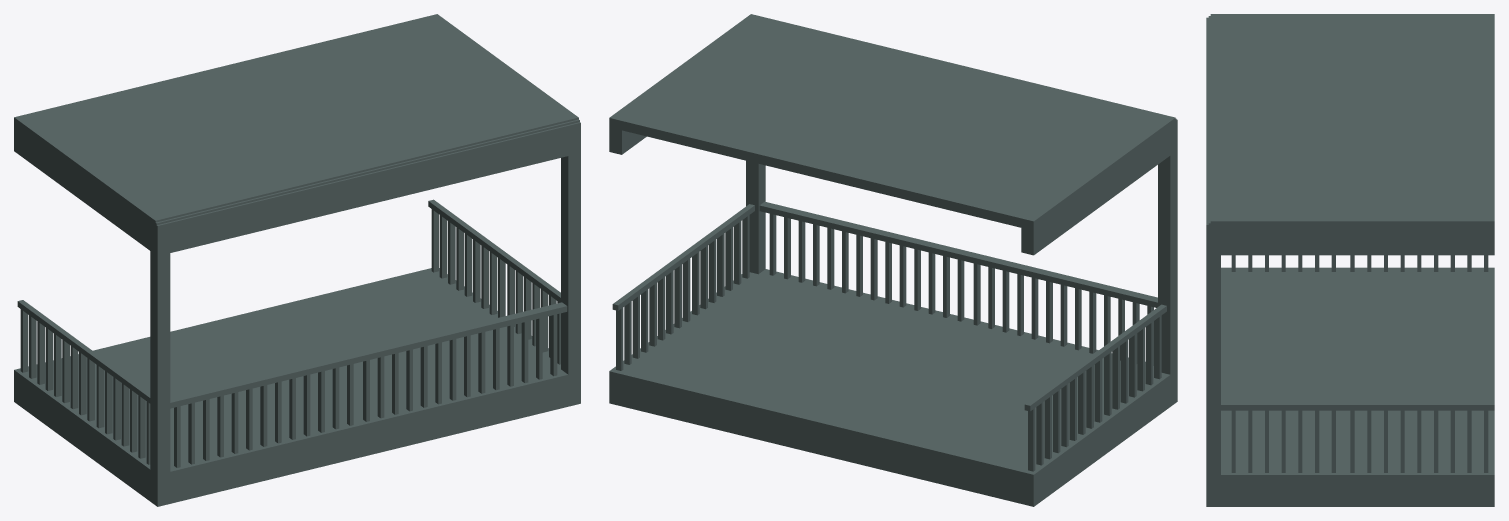
File: balcony2_green.obj
3 views of the same model, side by side, from view 1: azimuth 30°, elevation 25°; view 2: azimuth 150°, elevation 25°; view 3: azimuth 270°, elevation 25° (orthographic).
Bounding box in the file's own units: 23.5 × 15.1 × 13.8.
1 material, 1 textured.
